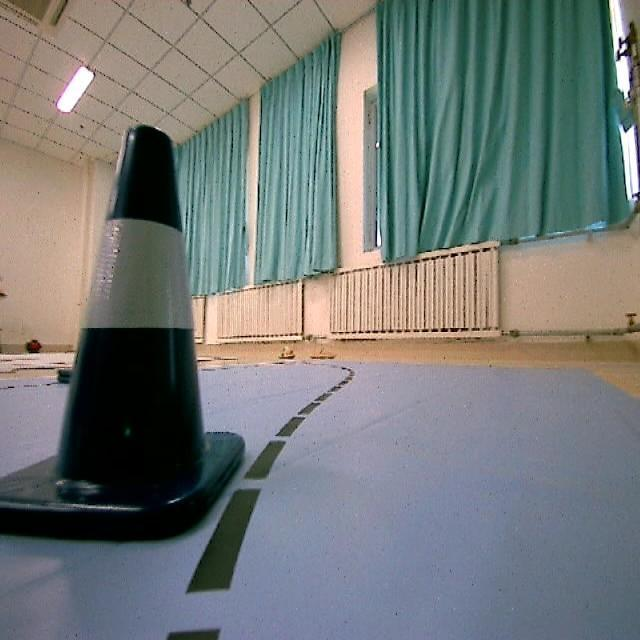obstacle: (8, 117, 264, 563)
